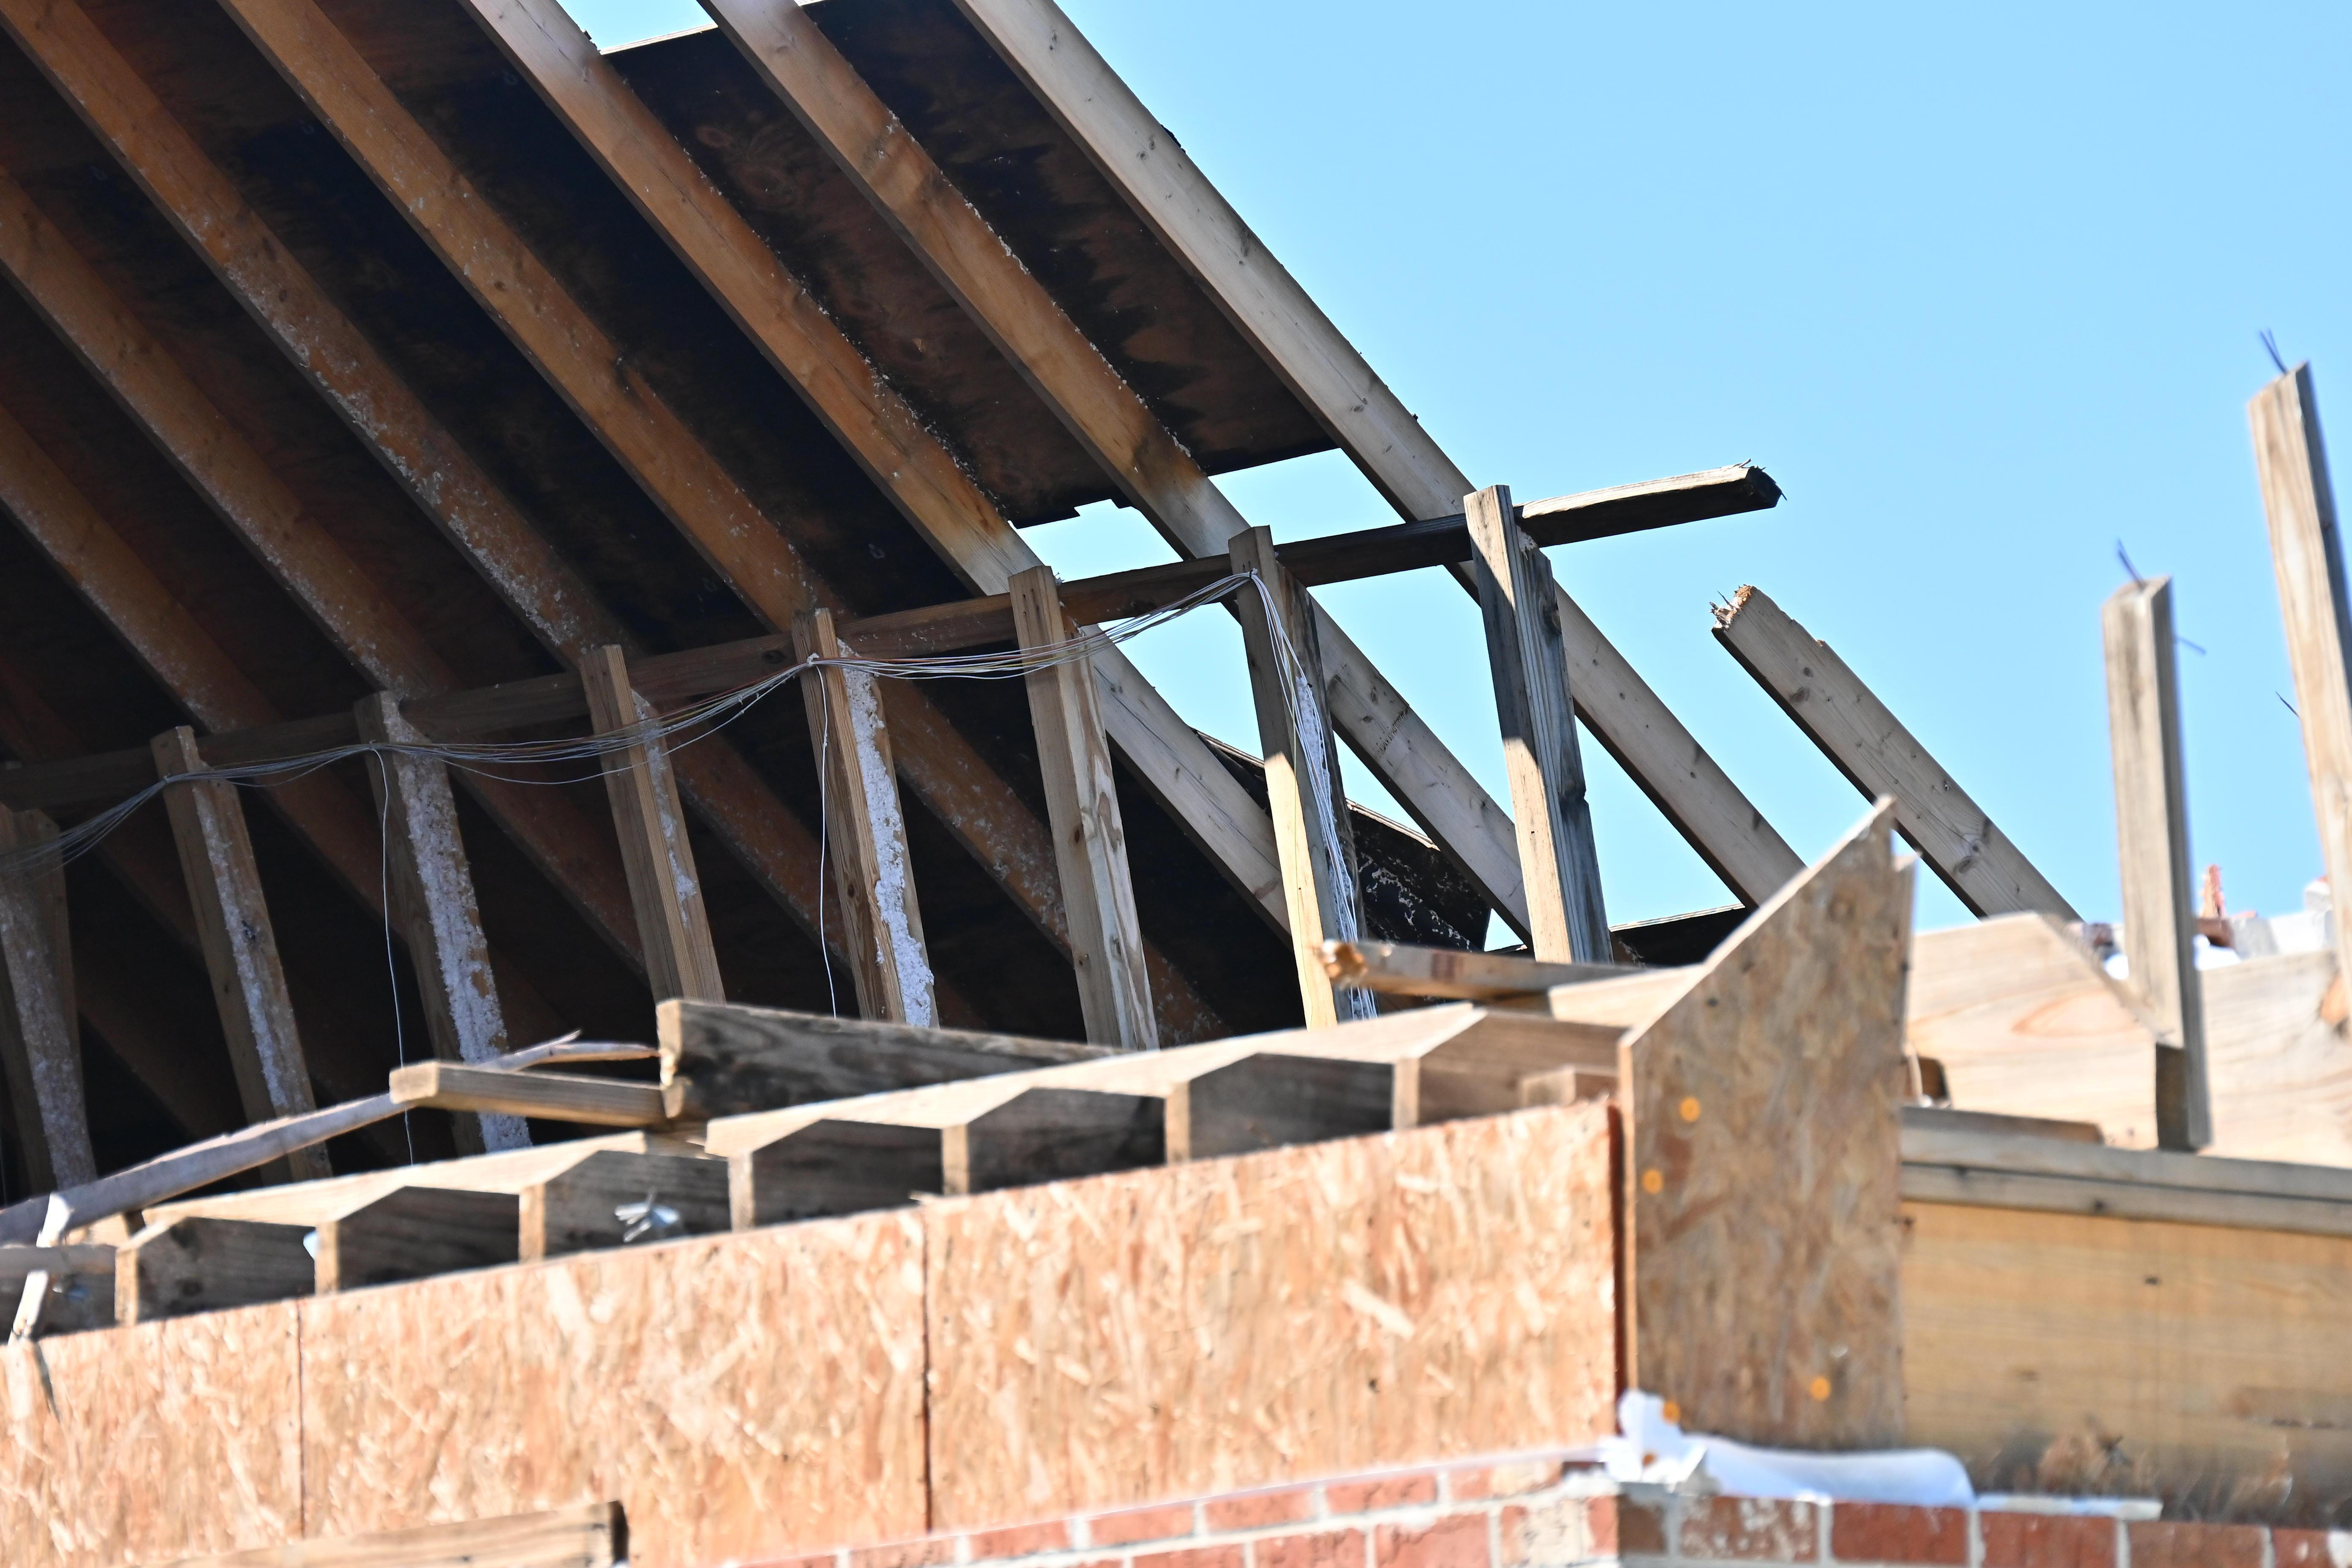destroyed: (0, 0, 2312, 1461)
